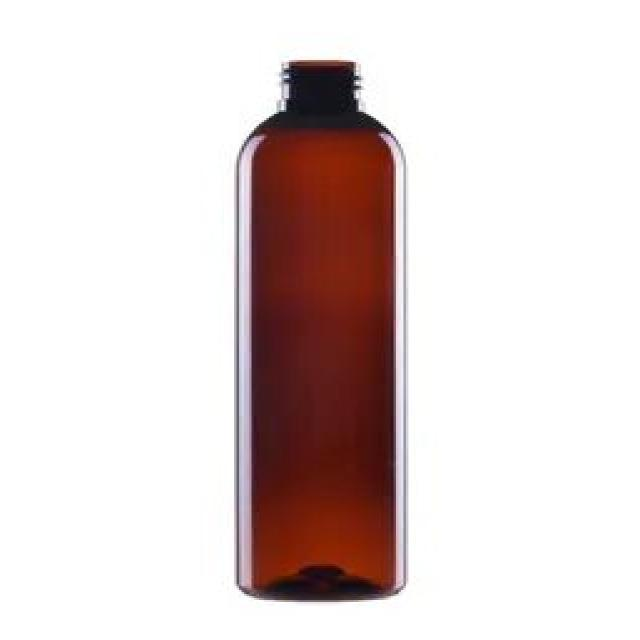brown: (232, 58, 405, 602)
